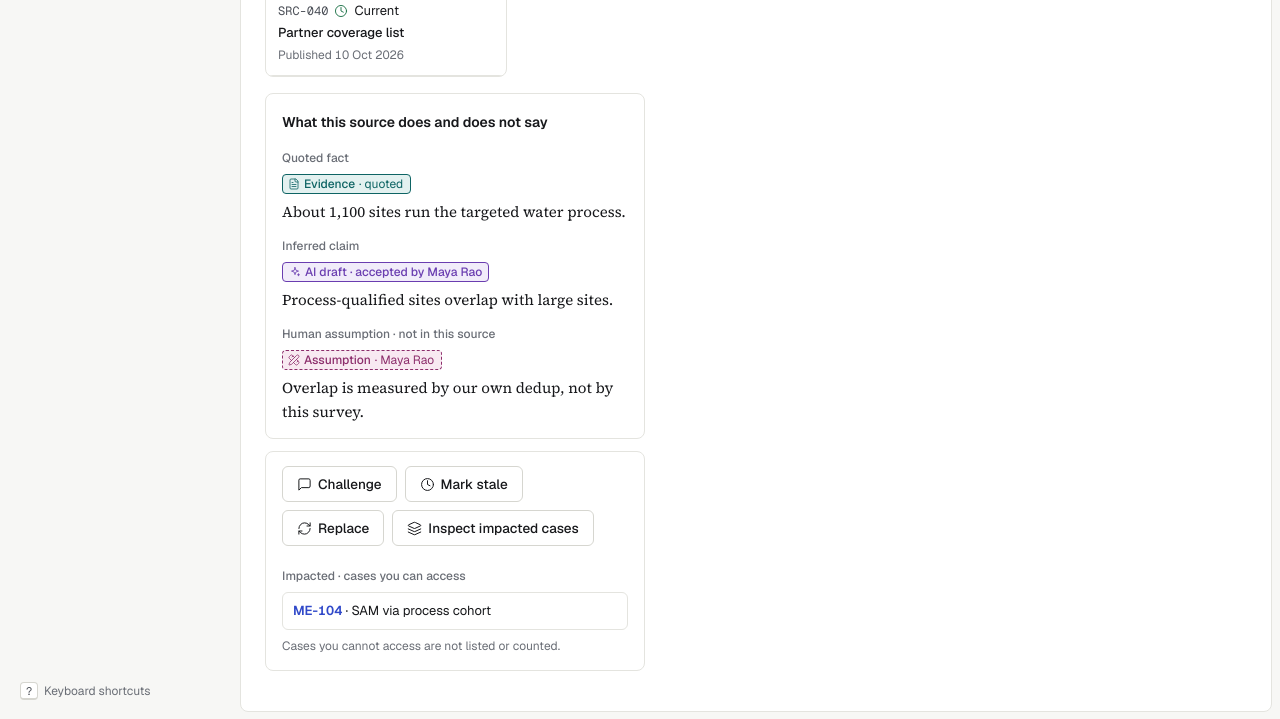
Scenario: S13 Evidence › challenge and mark stale require text and report the result
(page scrolled)
Click the button "Challenge" at [339, 484], box [282,466,397,502]
(page scrolled)
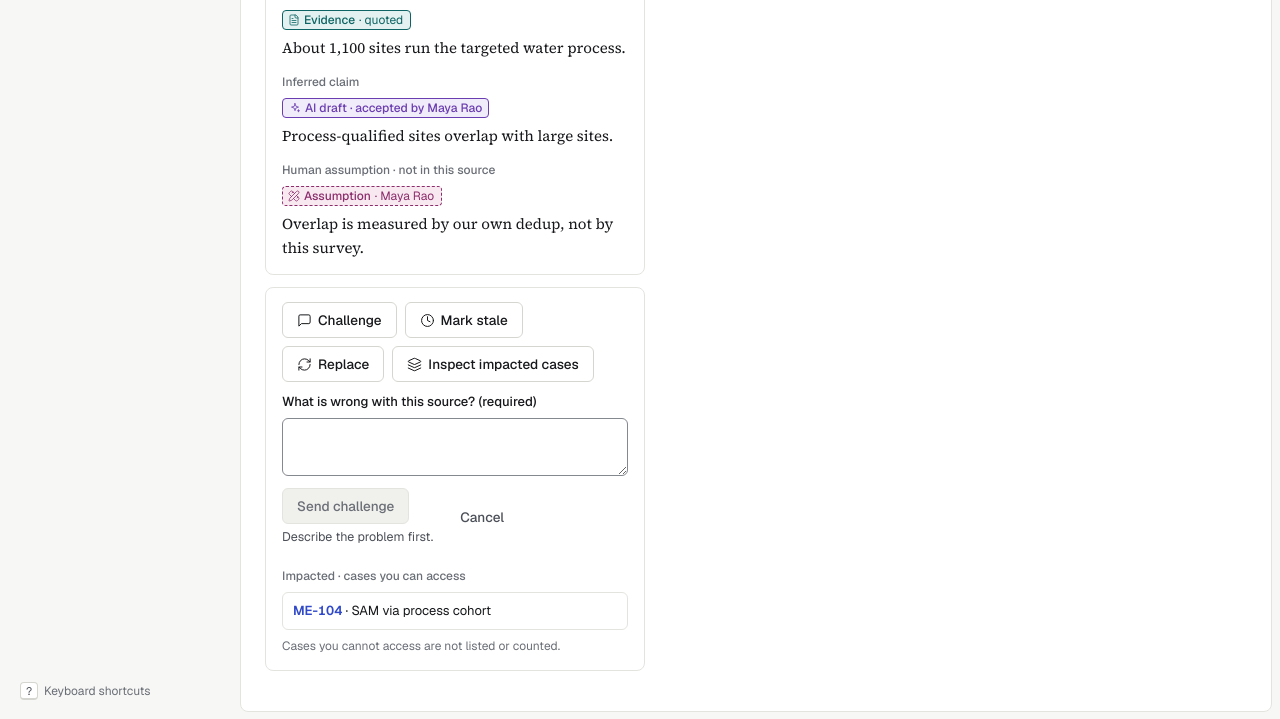
Expected: the button "Send challenge" is disabled, [282,488,409,524]
Type "Survey counts responders only." into the text box labelled "What is wrong with this source? (required)" at [455, 447], box [282,418,628,476]
(page scrolled)
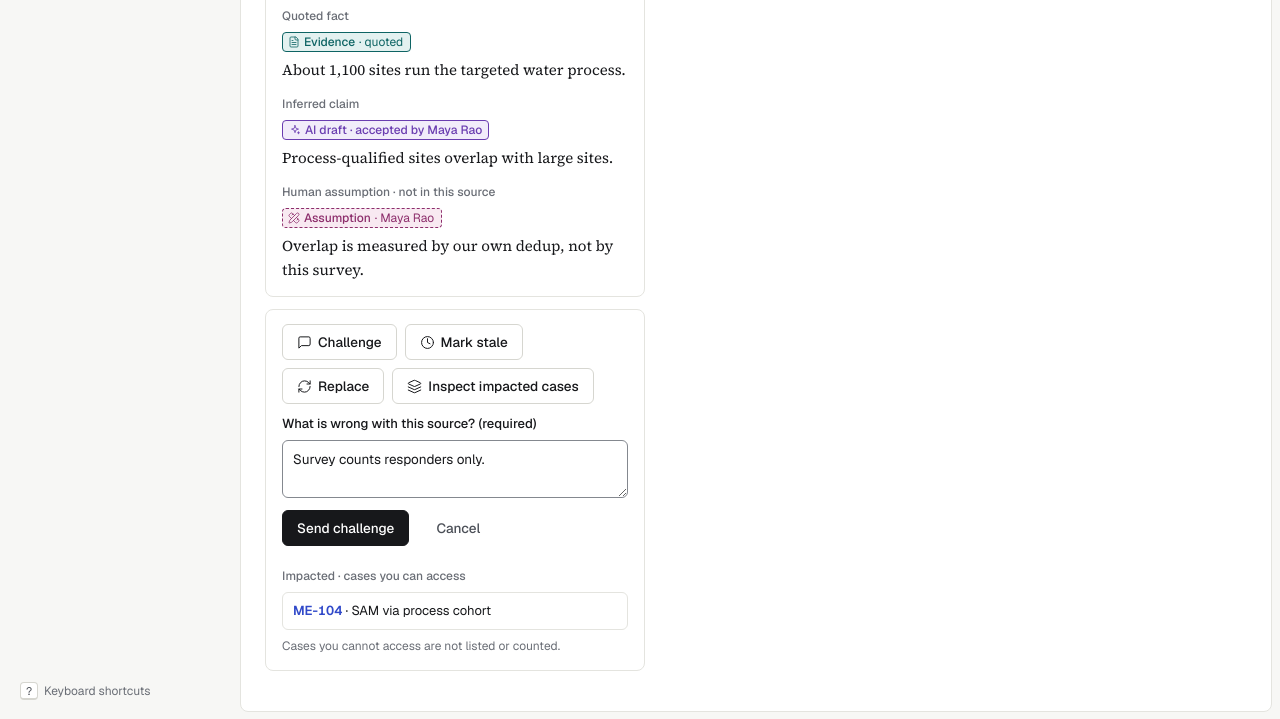
Click the button "Send challenge" at [346, 528], box [282,510,409,546]
(page scrolled)
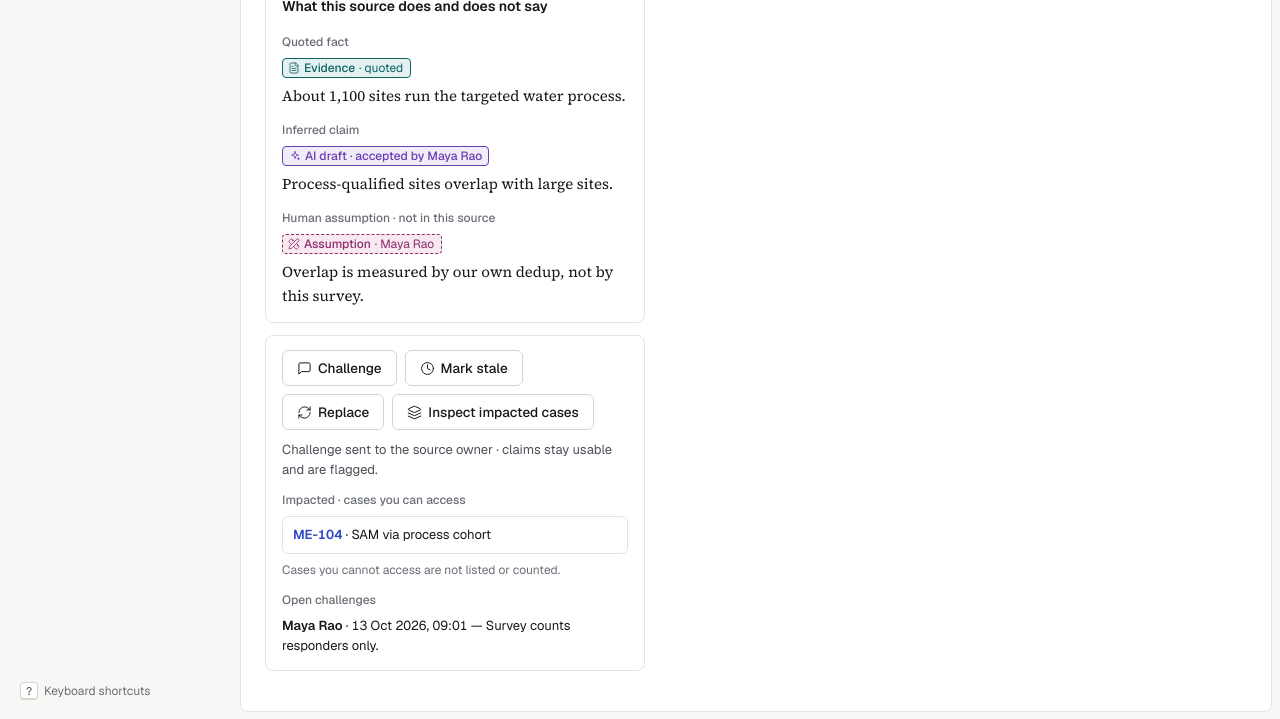
Expected: the text "Challenge sent to the source owner · claims stay usable and are flagged." is shown, [282,440,628,480]
Click the button "Mark stale" at [464, 368], box [405,350,523,386]
(page scrolled)
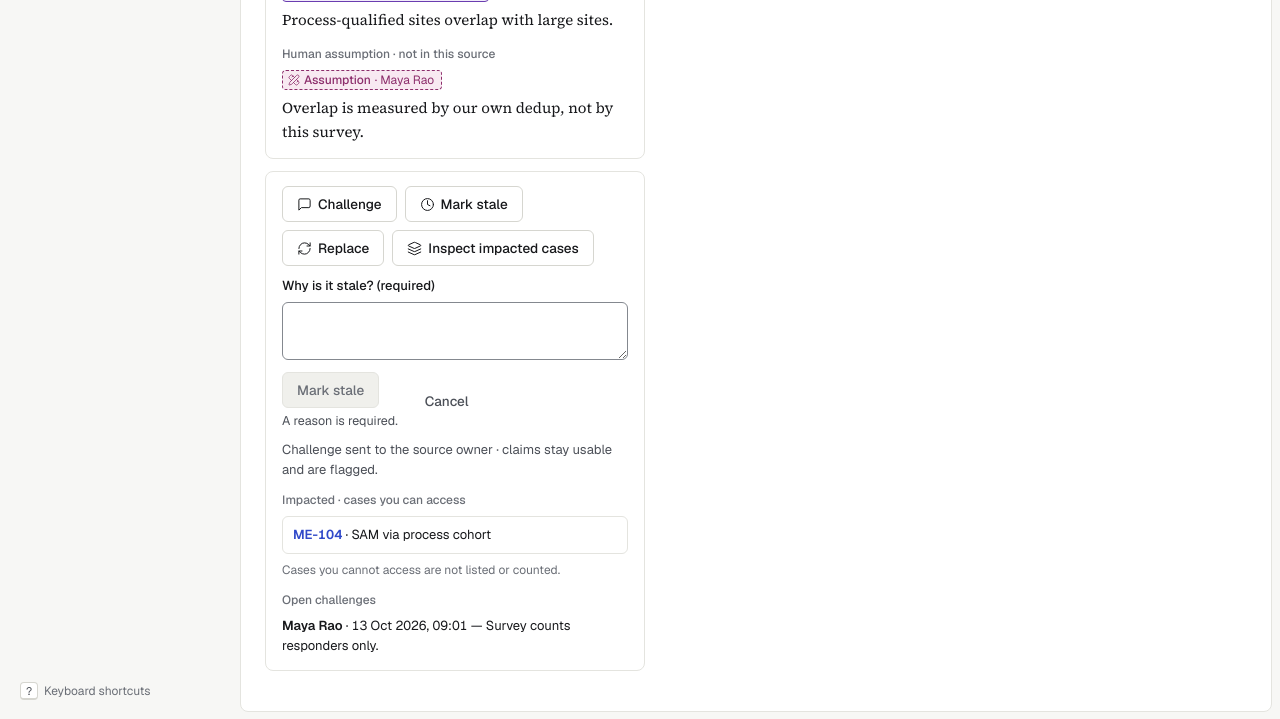
Type "A 2027 survey exists." into the text box labelled "Why is it stale? (required)" at [455, 331], box [282,302,628,360]
(page scrolled)
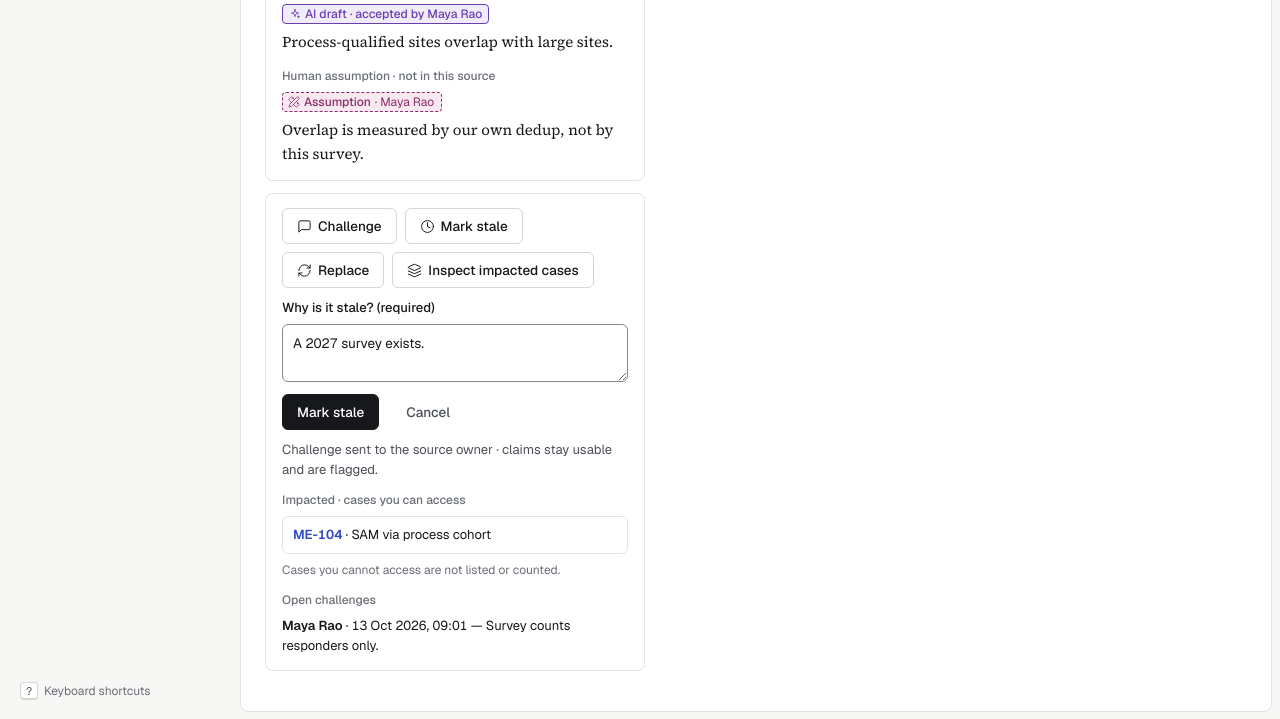
Click the button "Mark stale" below "Why is it stale?" at [331, 412], box [282,394,379,430]
(page scrolled)
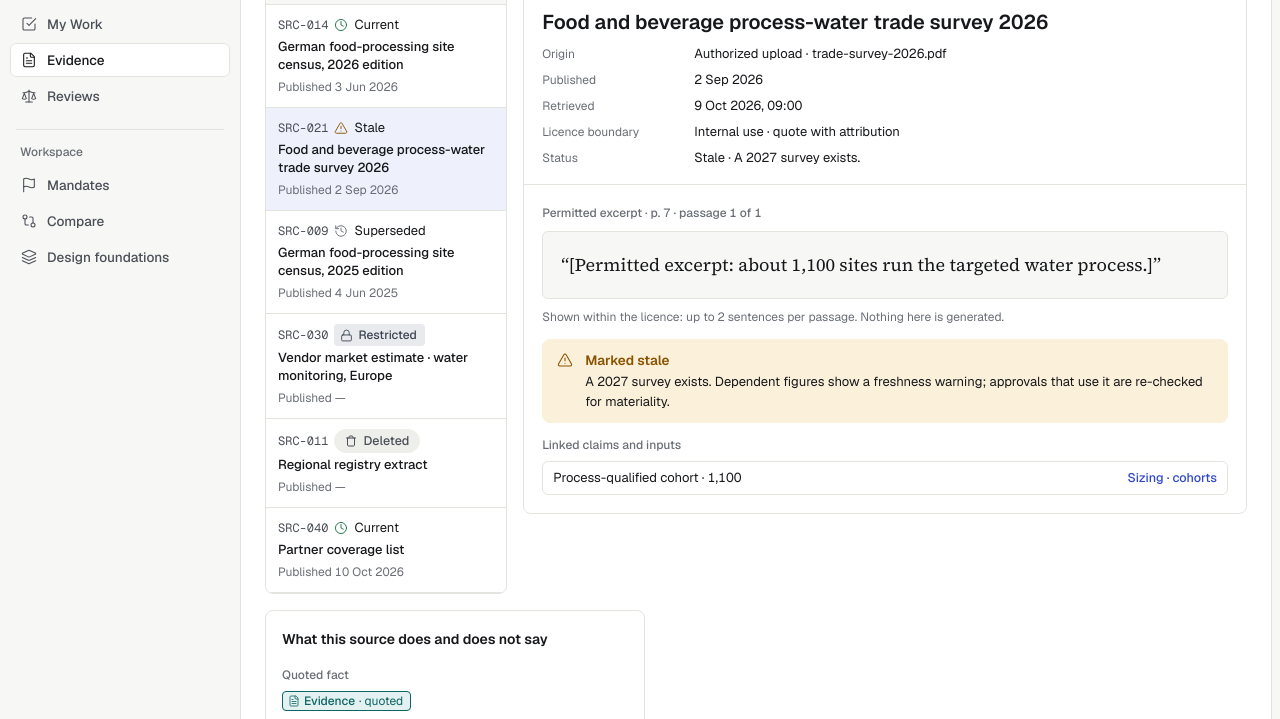
Expected: the text "Marked stale" is shown, [585,351,670,369]
